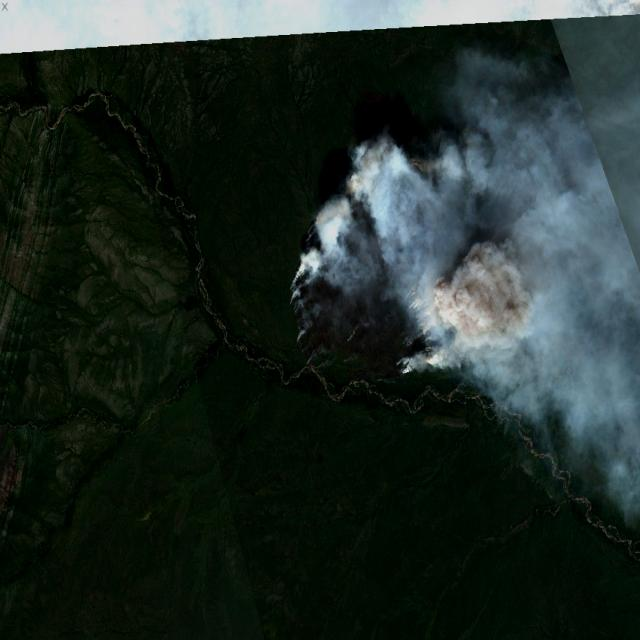fire: (383, 280, 481, 388), (286, 189, 340, 350), (382, 150, 427, 212)
